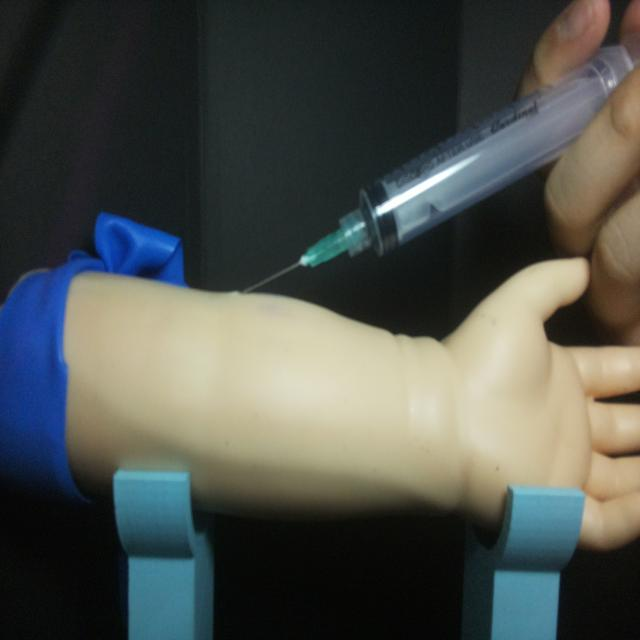19deg: (232, 40, 636, 297)
